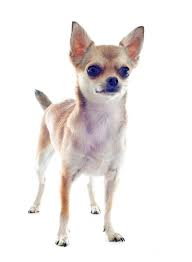chihuahua: (29, 23, 146, 246)
